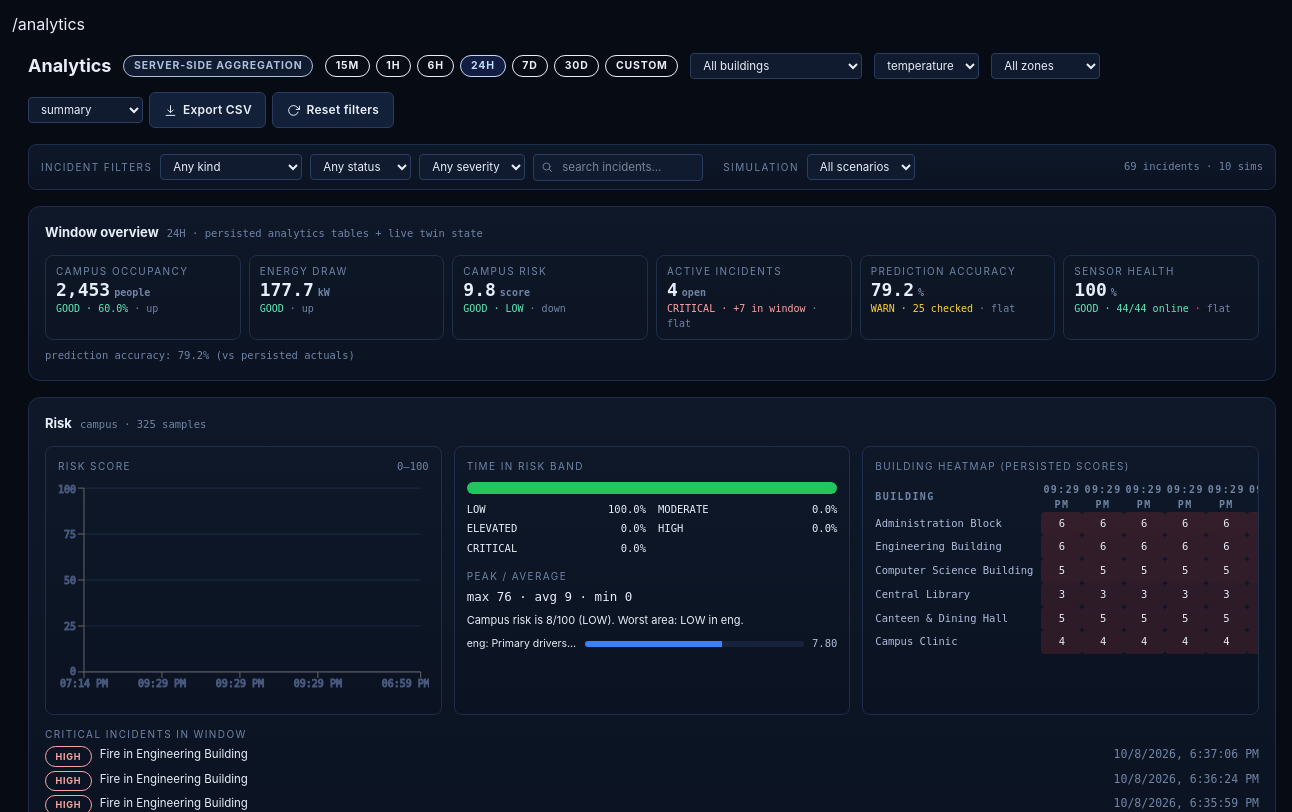
Test: Analytics §62 — URL-persisted filters › switches the window range and refetches
Expected: the element with test id "section-window-overview" is shown, [28,206,1276,381]
What coordinates should you click on to do the following:
click the button with test id "range-1H"
I would click on:
 (393, 66)
Its box is [376,55,411,77].
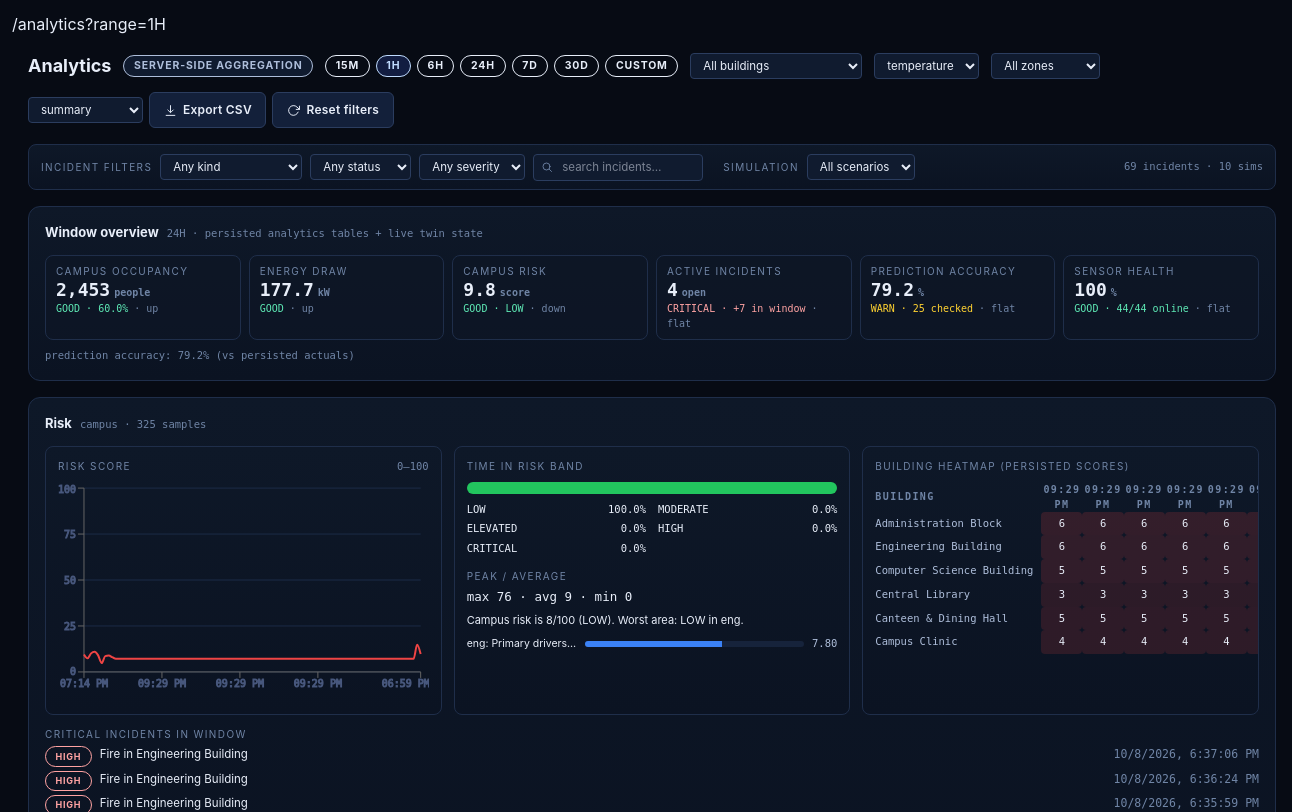
Now the text with test id "loc" shows "range=1H", box [12,14,166,34]
